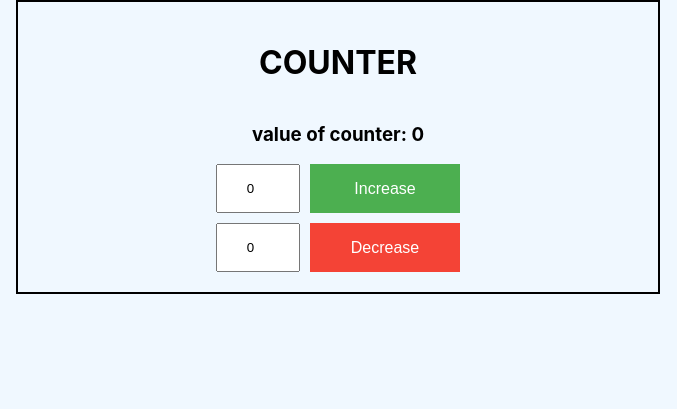
Test case: Testing my counter appp › Increase Counter › should reset input field after increase
Type "7" into the number field with test id "value_inc".
click(258, 189); type("7")  # box [216,164,300,213]
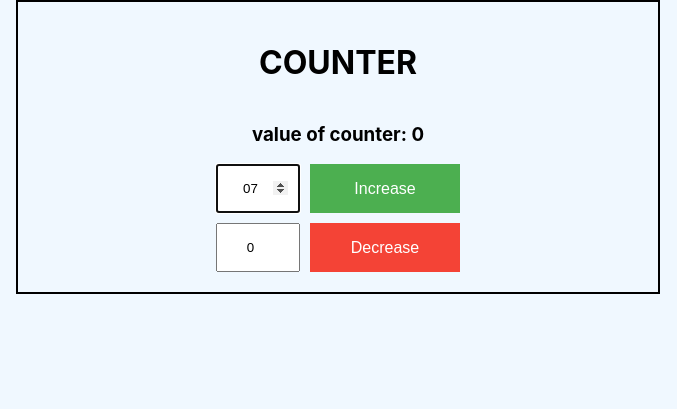
Click the button with test id "button_inc".
click(385, 189)  # box [310,164,460,213]
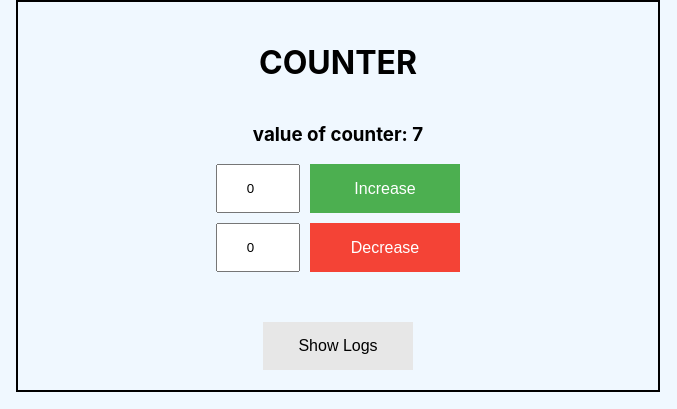
Expected: the number field with test id "value_inc" holds "0", [216,164,300,213]
